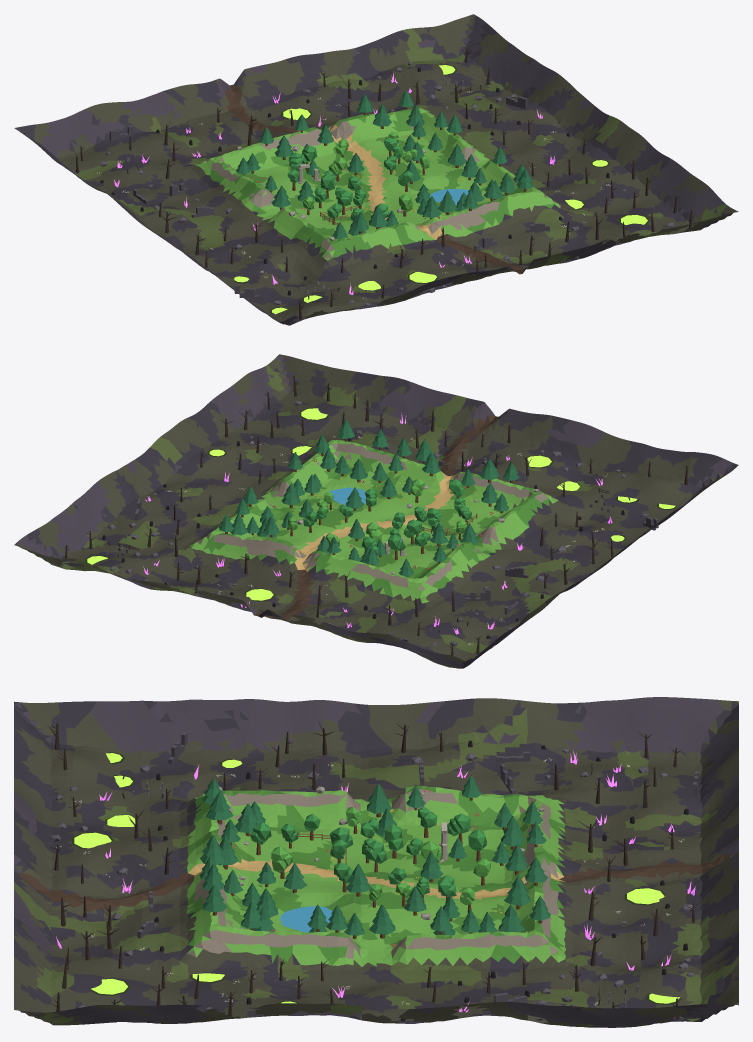
File: map.glb
3 renders of one model, top to bottom at view 1: azimuth 30°, elevation 25°; view 2: azimuth 150°, elevation 25°; view 3: azimuth 270°, elevation 25°, orthographic. The views are drawn at different scales.
Visible parts, largest first — view 1: Terrain; view 2: Terrain; view 3: Terrain, Water.
Boxes of the visible parts, bbox=[...] form: Terrain: bbox=[14, 14, 738, 325]; Terrain: bbox=[14, 354, 738, 668]; Terrain: bbox=[14, 697, 738, 1027]; Water: bbox=[280, 906, 332, 932].
Bounding box in the file's own units: 96 × 10.64 × 96.
